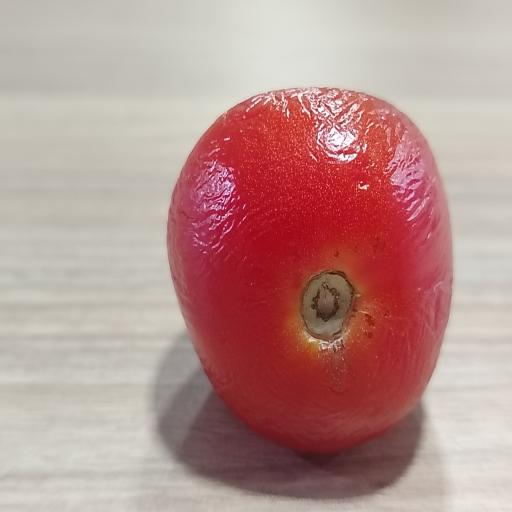spoiled: (167, 88, 452, 453)
